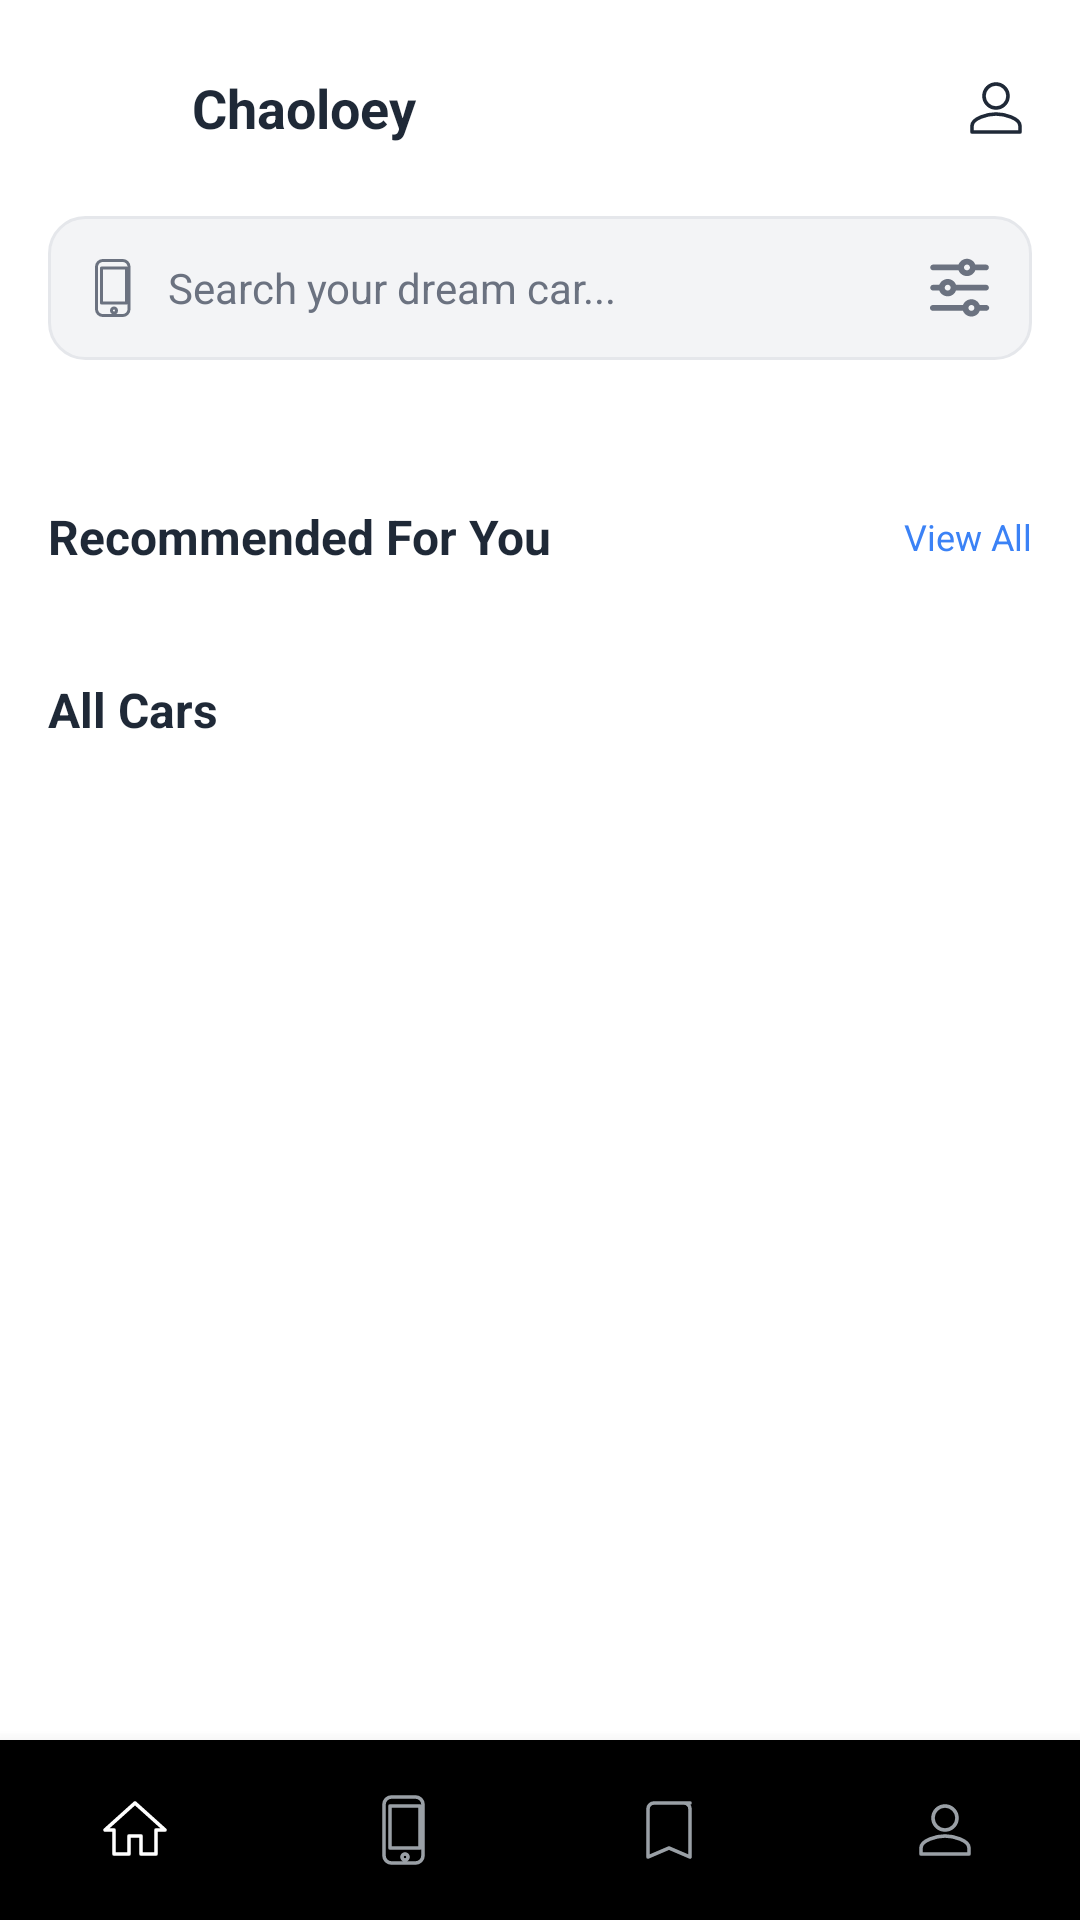

Screen size 1080 x 1920. Icon name, then its box in pixels as (x1, y1, x2, y2):
Filter: (930, 258, 989, 317)
Profile: (970, 82, 1022, 134)
